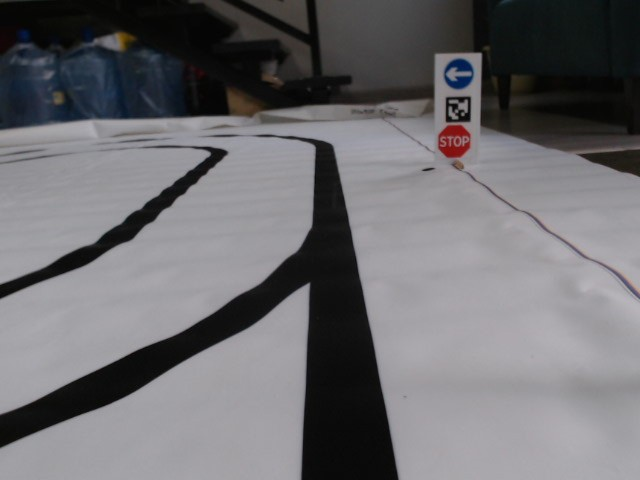Stop: (439, 124, 471, 157)
